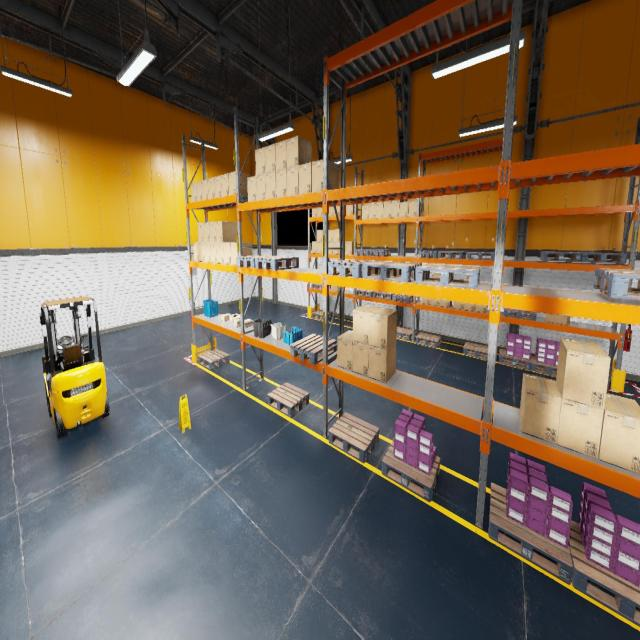box: (556, 337, 610, 410), (556, 381, 604, 458), (598, 393, 640, 474), (520, 373, 561, 444), (369, 307, 397, 350), (368, 341, 396, 383), (352, 304, 380, 345), (312, 159, 338, 192), (286, 135, 312, 168), (337, 330, 353, 371), (352, 341, 369, 377), (228, 171, 250, 196), (230, 242, 252, 264), (215, 221, 237, 242), (299, 162, 311, 194), (276, 139, 286, 171), (287, 166, 298, 195), (265, 171, 276, 199), (276, 168, 286, 198), (265, 143, 275, 173), (545, 313, 570, 325), (255, 147, 265, 175), (256, 174, 266, 200), (248, 176, 256, 202), (408, 200, 420, 217), (220, 173, 228, 196), (223, 242, 231, 264), (216, 242, 224, 263), (214, 175, 221, 198), (208, 177, 215, 199), (399, 201, 408, 217), (190, 182, 197, 202), (210, 242, 217, 262), (204, 242, 211, 262), (209, 222, 216, 242), (203, 222, 210, 242), (202, 179, 208, 200), (196, 181, 202, 201), (198, 242, 204, 262), (346, 242, 356, 254), (193, 242, 199, 261), (198, 223, 204, 242), (384, 204, 392, 218), (392, 202, 399, 218), (368, 204, 376, 218), (347, 204, 358, 214), (475, 304, 487, 313), (376, 204, 383, 218), (439, 300, 452, 307), (229, 313, 239, 322), (464, 303, 475, 311), (333, 230, 340, 242), (362, 205, 368, 219), (430, 298, 440, 306), (453, 302, 464, 309), (244, 319, 252, 328), (340, 242, 346, 254), (333, 242, 339, 254), (221, 314, 231, 321), (316, 230, 322, 241), (233, 318, 240, 327), (422, 297, 431, 304), (328, 242, 333, 254), (328, 230, 333, 242), (334, 206, 340, 216), (328, 206, 334, 216), (317, 242, 322, 253), (312, 208, 317, 217), (312, 242, 316, 253), (233, 314, 240, 320), (332, 286, 339, 292), (432, 273, 440, 278), (318, 207, 322, 217), (392, 200, 403, 202), (466, 276, 469, 280), (322, 230, 323, 241), (322, 242, 322, 253)
forklift: (40, 296, 109, 438)
pallets: (488, 482, 573, 584), (568, 520, 640, 626), (381, 438, 440, 502), (328, 412, 379, 463), (415, 264, 480, 289), (593, 268, 640, 300), (267, 382, 309, 417), (290, 334, 336, 364), (362, 261, 422, 282), (328, 259, 379, 278), (498, 348, 530, 370), (198, 349, 229, 370), (255, 256, 299, 270), (530, 355, 557, 376), (578, 252, 628, 263), (236, 255, 276, 268), (463, 341, 488, 360), (540, 252, 582, 262), (504, 308, 536, 321), (416, 332, 441, 348), (396, 326, 412, 341), (466, 252, 495, 260), (438, 251, 466, 259), (373, 291, 395, 300), (418, 250, 442, 258), (355, 289, 375, 298), (393, 294, 413, 303), (312, 311, 331, 320), (369, 249, 391, 256), (311, 283, 331, 289), (355, 250, 373, 256), (607, 378, 610, 388)
